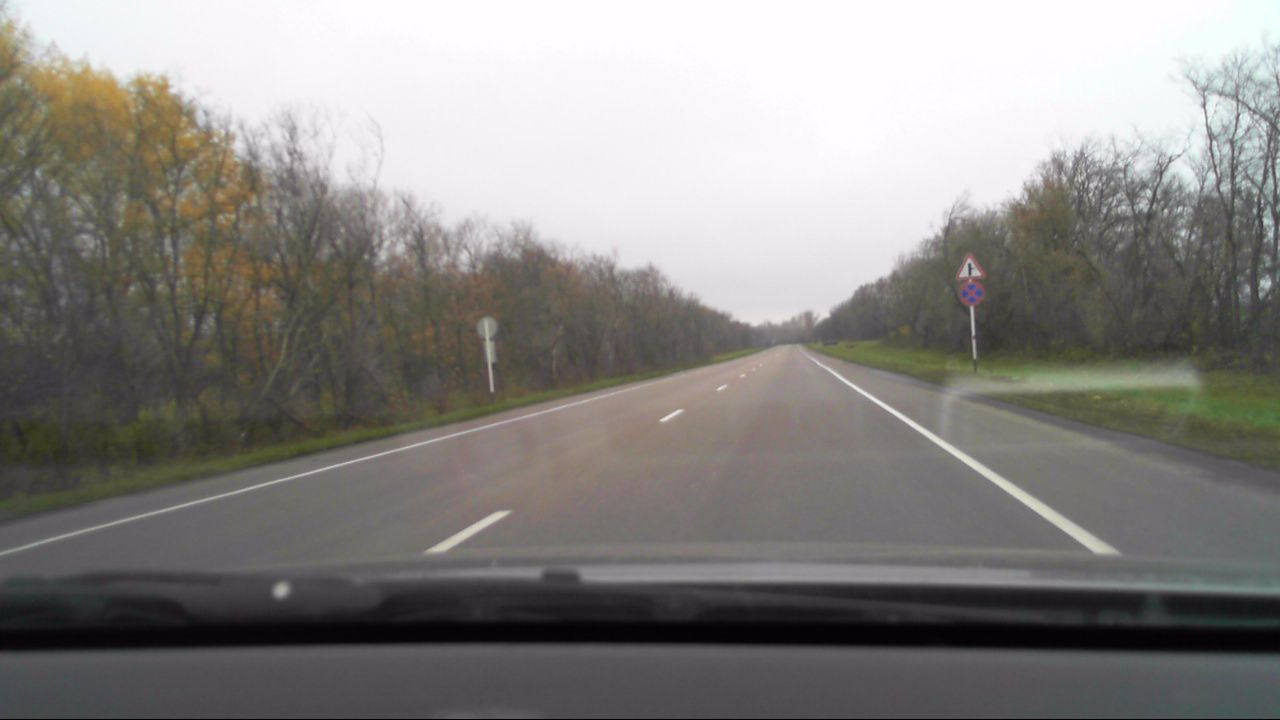No Parking: (959, 280, 986, 307)
